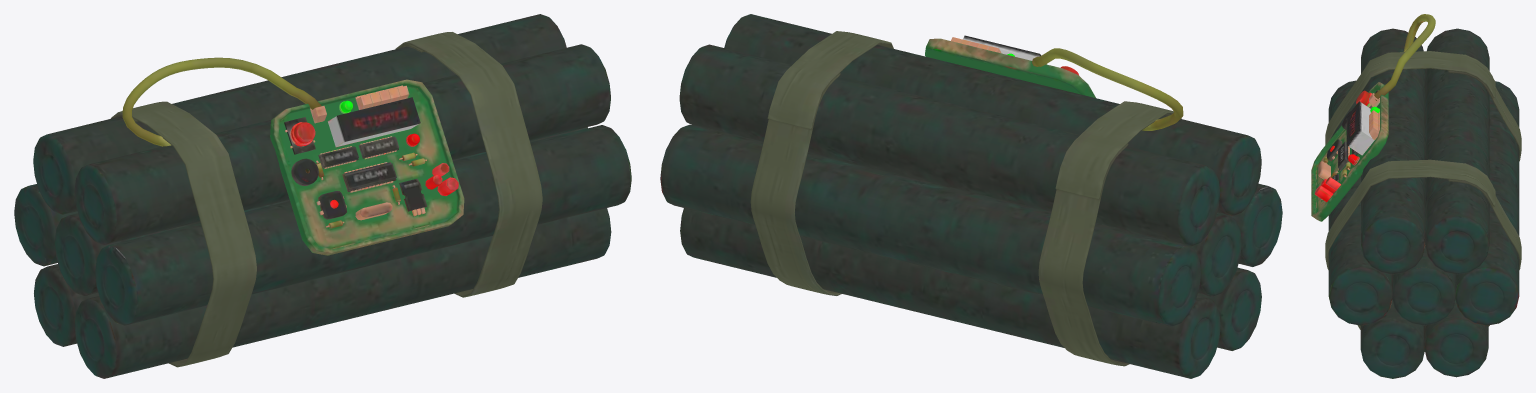
File: time-bomb.glb
3 renders of one model, left to right at view 1: azimuth 30°, elevation 25°; view 2: azimuth 150°, elevation 25°; view 3: azimuth 270°, elevation 25°, orthographic. The views are drawn at different scales.
Parts seen in each view (by area): view 1: polySurface37_lambert1_0; view 2: polySurface37_lambert1_0; view 3: polySurface37_lambert1_0.
Boxes of the visible parts, bbox=[...] form: polySurface37_lambert1_0: bbox=[14, 14, 631, 378]; polySurface37_lambert1_0: bbox=[660, 14, 1282, 378]; polySurface37_lambert1_0: bbox=[1311, 14, 1521, 378].
Bounding box in the file's own units: 0.2 × 0.1068 × 0.0933.
1 material, 1 textured.
